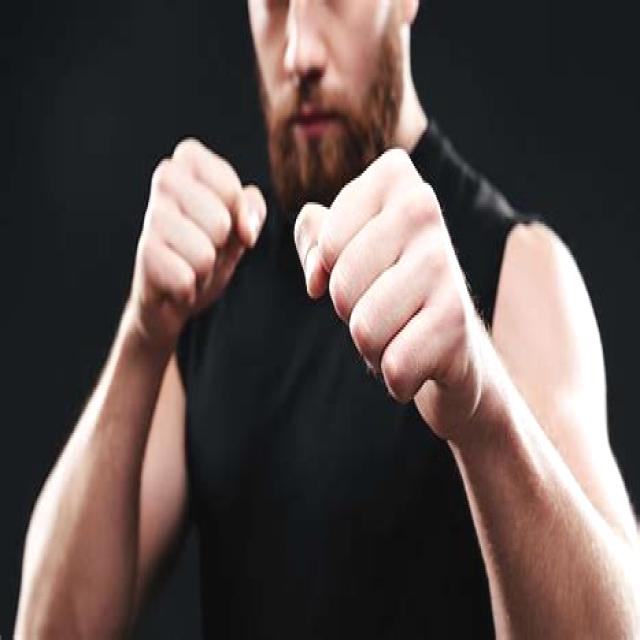fight: (94, 7, 608, 546)
